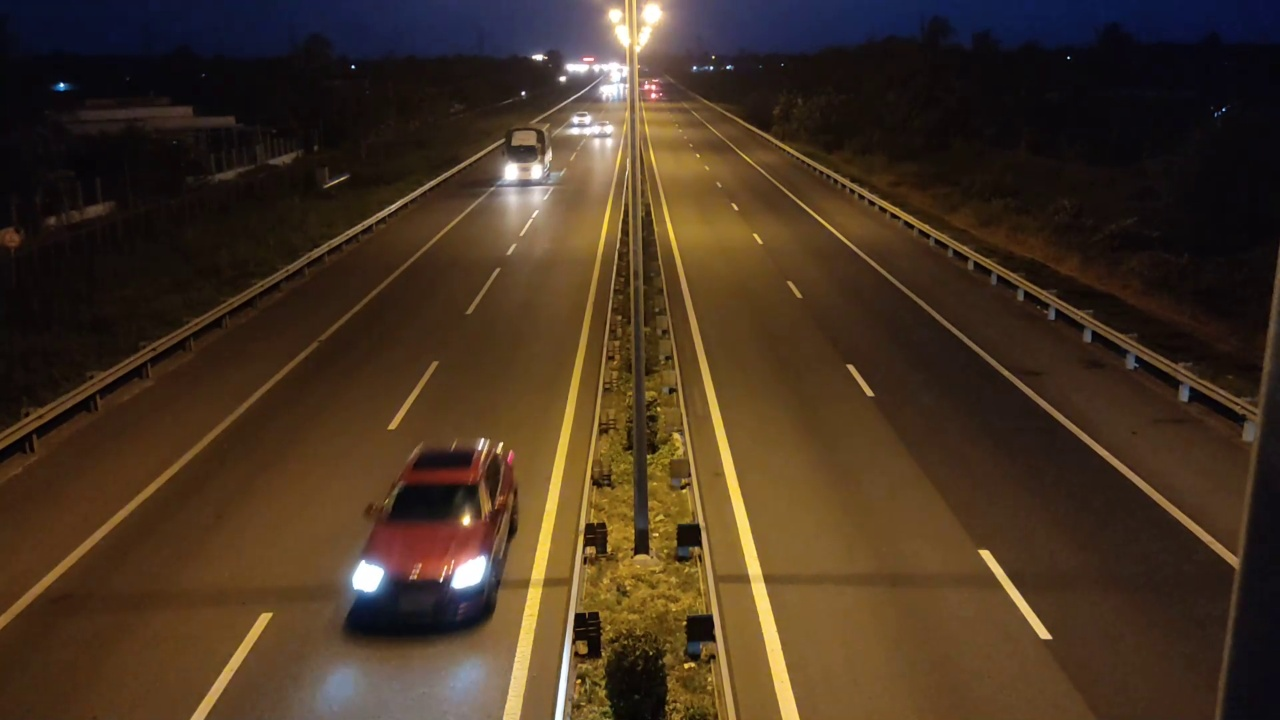car: (345, 437, 519, 633)
truck: (495, 114, 554, 190)
